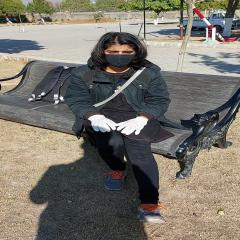gloved: (120, 116, 147, 134), (89, 115, 117, 132)
